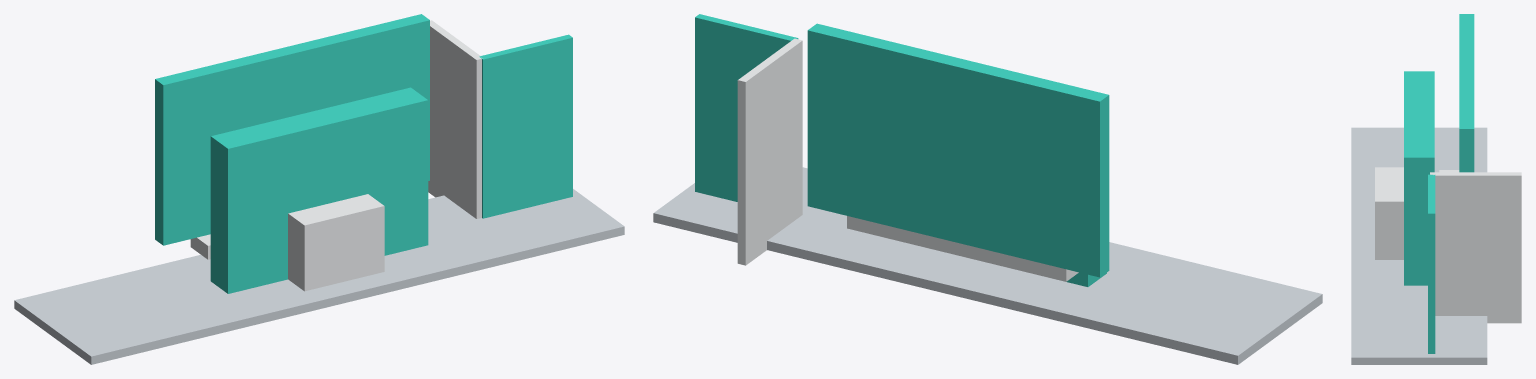
The picture shows the model from 3 angles, left to right: view 1: azimuth 30°, elevation 25°; view 2: azimuth 150°, elevation 25°; view 3: azimuth 270°, elevation 25°; orthographic projection. The views are drawn at different scales.
Visible parts, largest first — view 1: Exhibition Booth Concept; view 2: Exhibition Booth Concept; view 3: Exhibition Booth Concept.
Boxes of the visible parts, x1,y1,x2,y2 form: Exhibition Booth Concept: (14, 14, 624, 364); Exhibition Booth Concept: (653, 14, 1322, 364); Exhibition Booth Concept: (1351, 14, 1521, 364).
Bounding box in the file's own units: 8 × 2.9 × 2.5.
